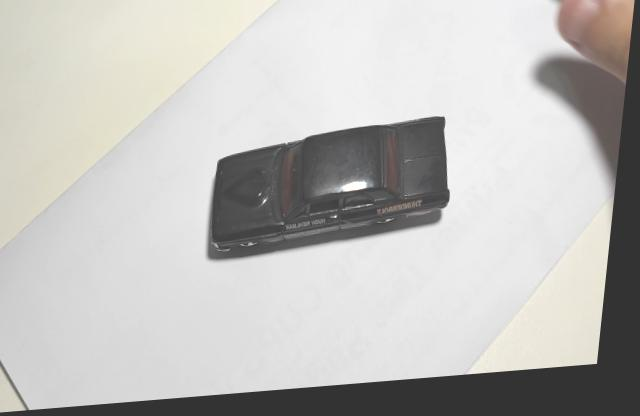01_FORD: (212, 125, 455, 266)
